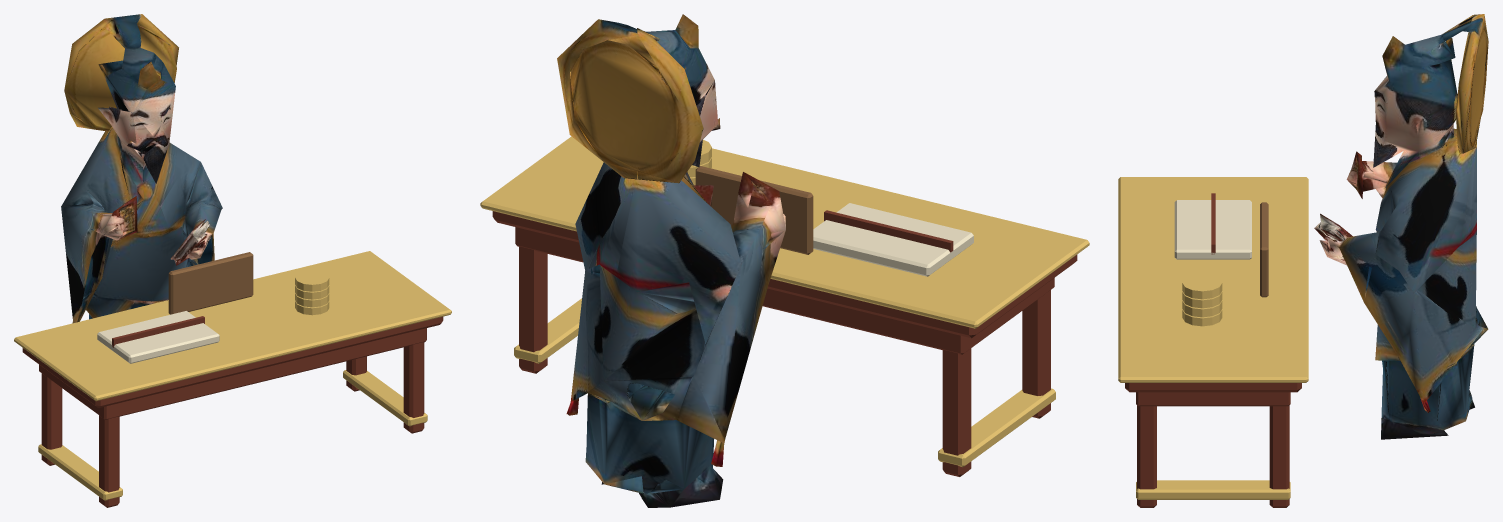
File: business.glb
The picture shows the model from 3 angles, left to right: view 1: azimuth 30°, elevation 25°; view 2: azimuth 150°, elevation 25°; view 3: azimuth 270°, elevation 25°; orthographic projection. The views are drawn at different scales.
Visible parts, largest first — view 1: table_business, god_business; view 2: god_business, table_business; view 3: table_business, god_business.
Boxes of the visible parts, bbox=[...] form: table_business: bbox=[14, 251, 451, 507]; god_business: bbox=[61, 14, 222, 323]; god_business: bbox=[557, 14, 785, 507]; table_business: bbox=[480, 136, 1089, 476]; table_business: bbox=[1118, 177, 1308, 507]; god_business: bbox=[1314, 14, 1488, 439].
Bounding box in the file's own units: 2.16 × 2 × 1.67.
7 materials, 1 textured.
